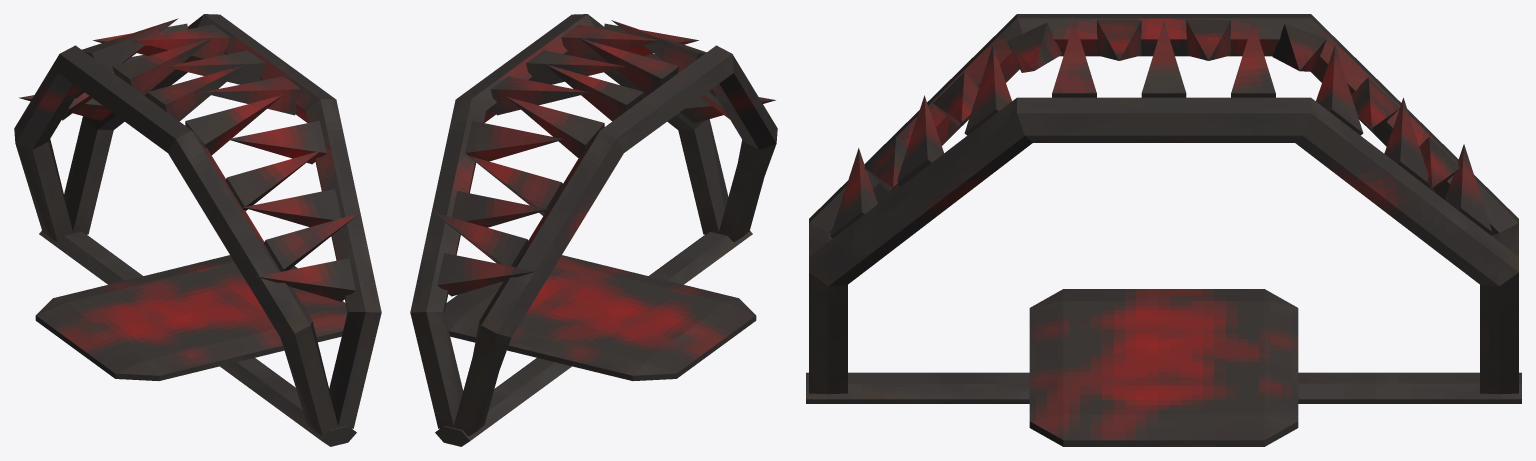
The model's file is beartrap_closed_blood.glb.
3 views of the same model, side by side, from view 1: azimuth 30°, elevation 25°; view 2: azimuth 150°, elevation 25°; view 3: azimuth 270°, elevation 25° (orthographic). The views are drawn at different scales.
Visible parts, largest first — view 1: torus, pyramid (×14), beveled_cuboid, cylinder; view 2: torus, pyramid (×14), beveled_cuboid, cylinder; view 3: torus, beveled_cuboid, pyramid (×17), cylinder.
Part boxes in pixels (x1,y1,x2,y2): torus: [14, 14, 381, 436]; pyramid (×14): [19, 18, 359, 301]; beveled_cuboid: [35, 255, 347, 380]; cylinder: [39, 231, 356, 446]; torus: [410, 14, 777, 436]; pyramid (×14): [433, 20, 775, 296]; beveled_cuboid: [444, 255, 756, 380]; cylinder: [435, 231, 752, 446]; torus: [809, 14, 1518, 394]; beveled_cuboid: [1029, 289, 1298, 446]; pyramid (×17): [830, 20, 1492, 238]; cylinder: [806, 372, 1521, 403].
Bounding box in the file's own units: 0.5 × 0.5512 × 1.
Materials: 1 (1 with a texture image).
